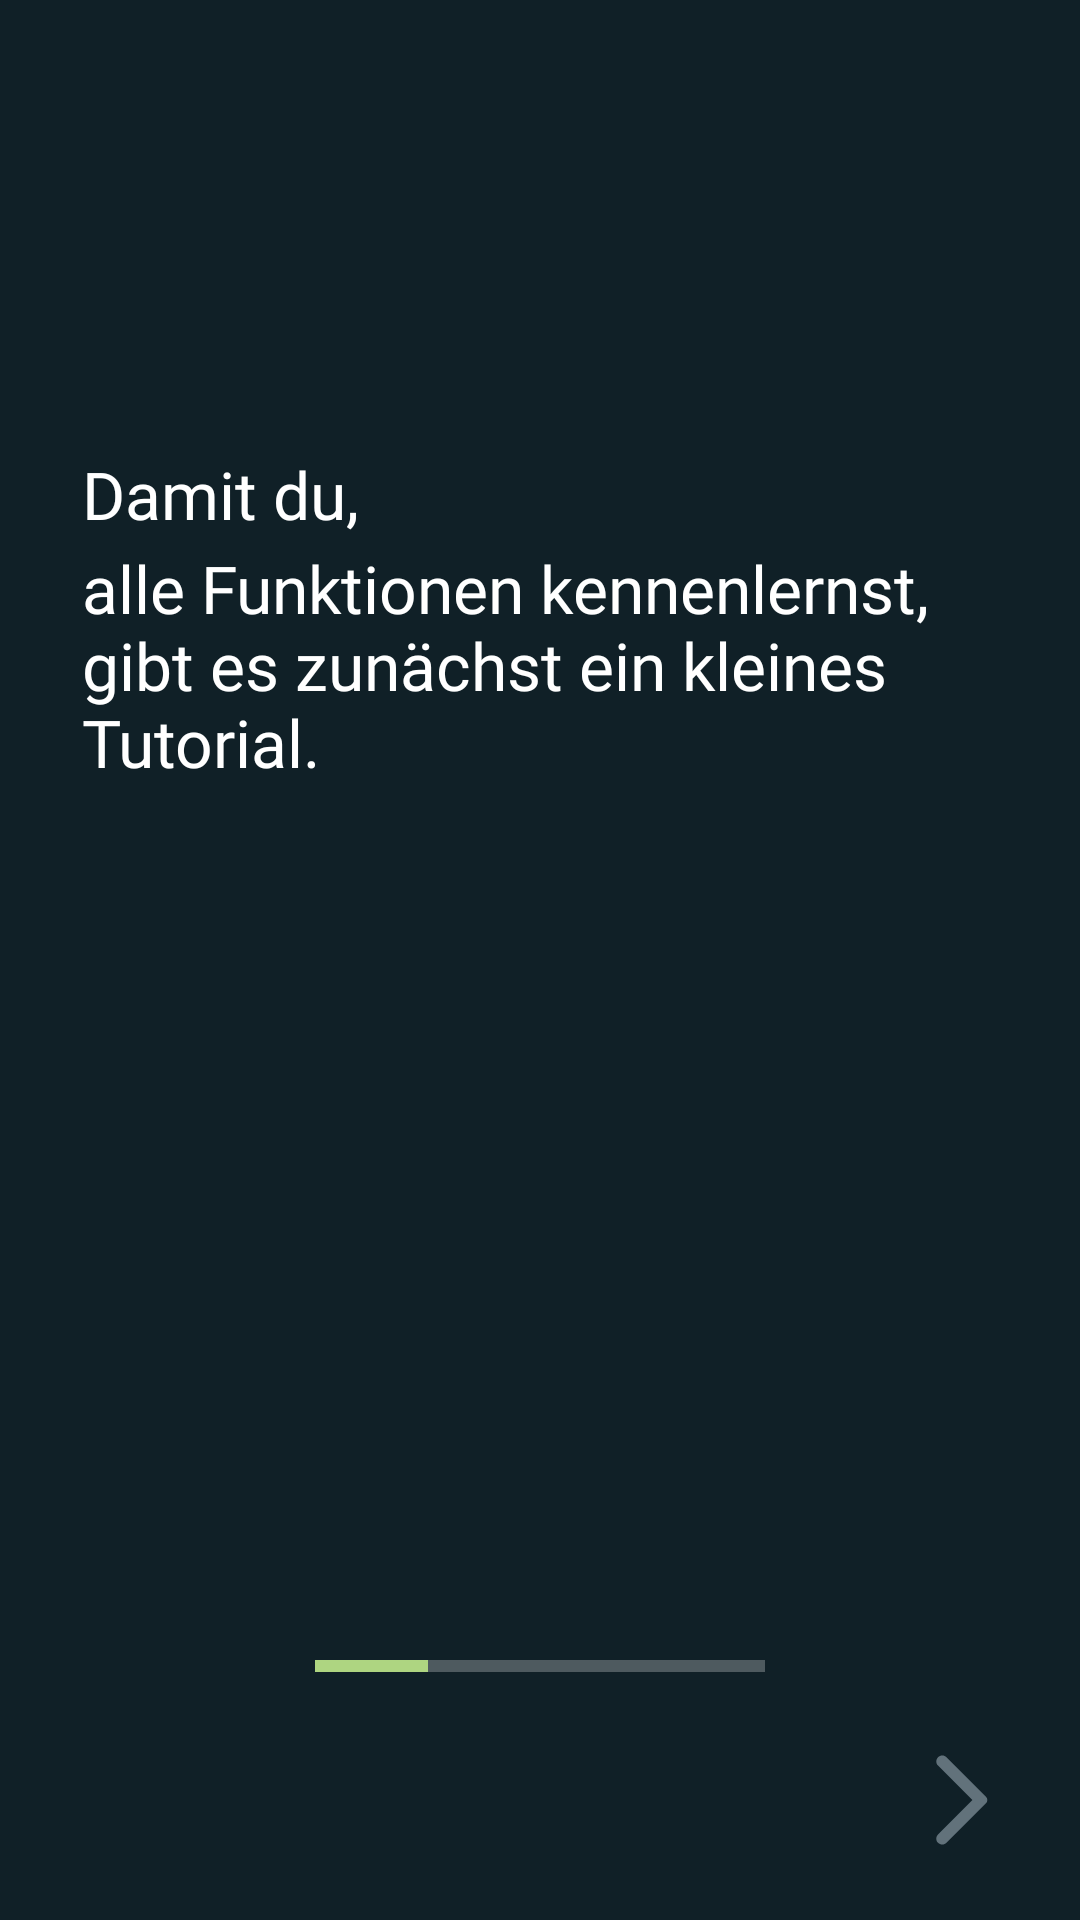

Icons on this 1080 x 1920 Android screen, each with the point to tap as (x=x, y=y):
weiter: (x=961, y=1800)
